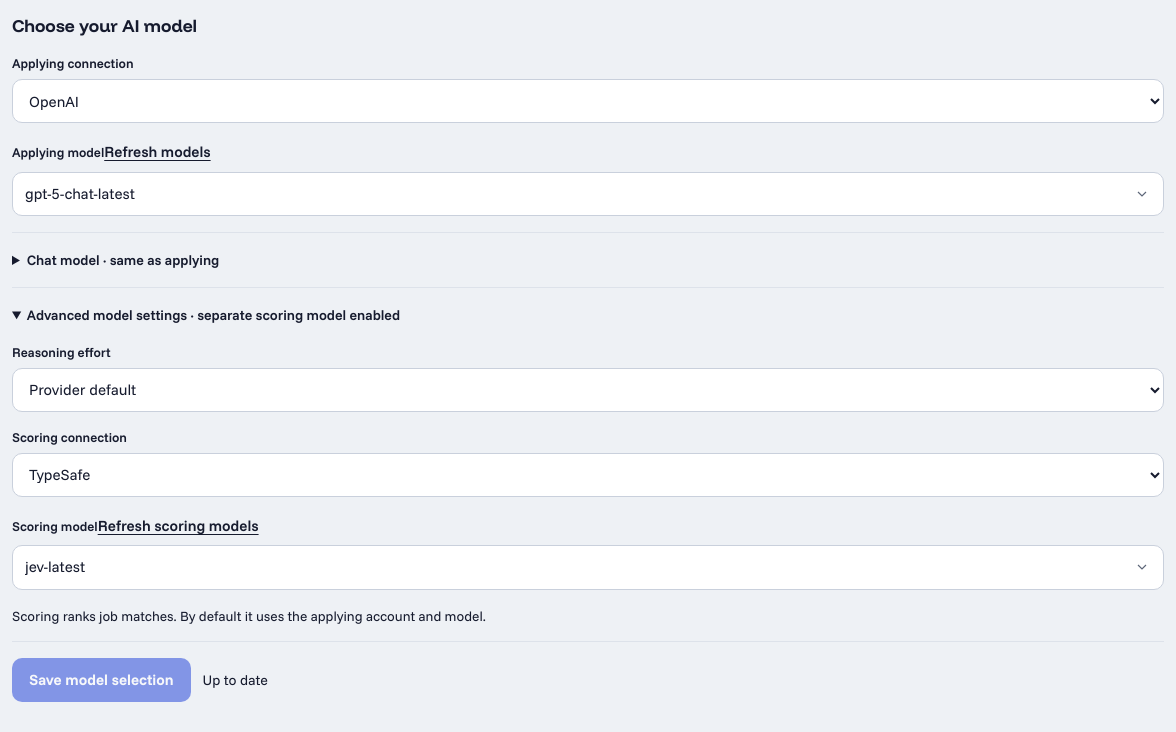
Test: ConnectionSelections › clears score model when switching away from scoring connection
Check: the dropdown labelled "Scoring model" holds "jev-latest", box [12, 545, 1164, 590]
Select "Use main AI account" in the dropdown labelled "Scoring connection": (588, 475) [12, 453, 1164, 497]
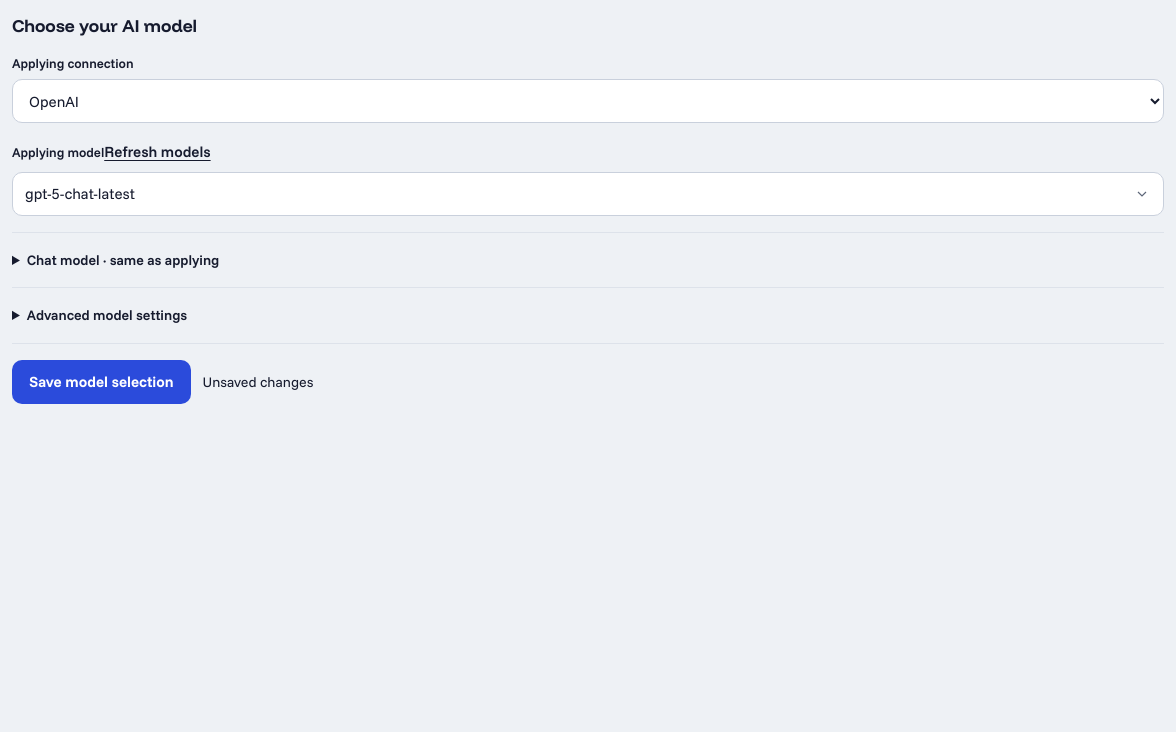
Check: the heading labelled "scoring model" is gone
